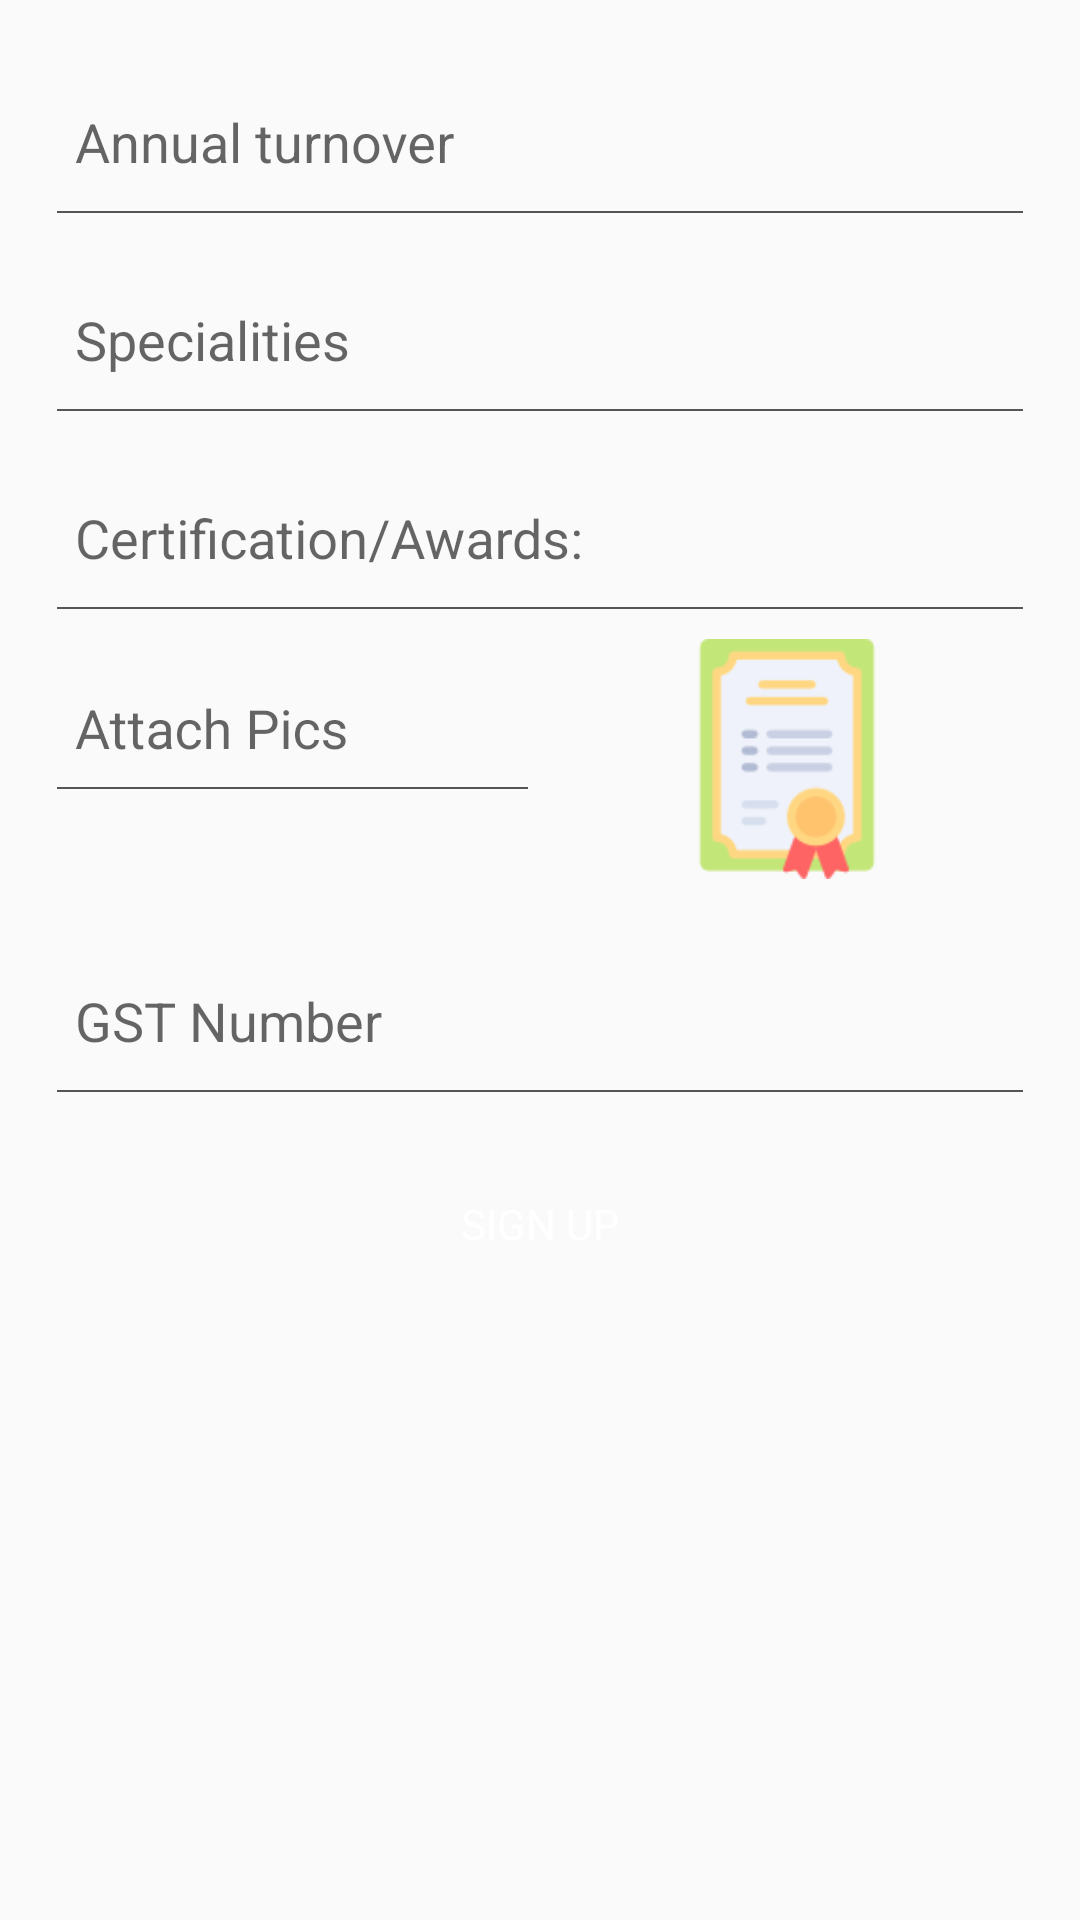

Named icons in this screenshot (1080px×1920px) and their bounding boxes, (x1, y1, x2, y2):
agreement: (699, 639, 875, 879)
